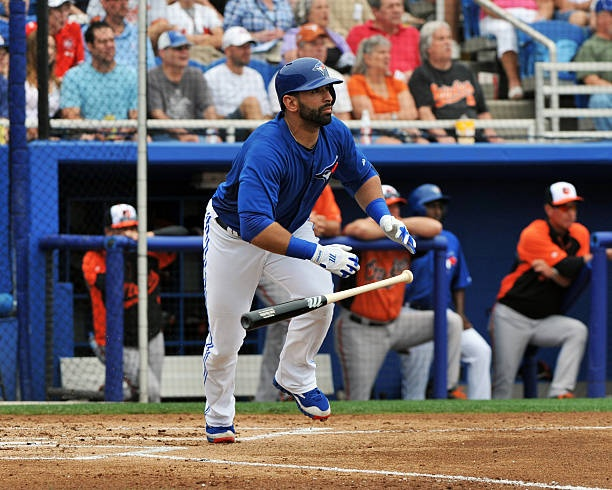bita: (240, 273, 415, 333)
